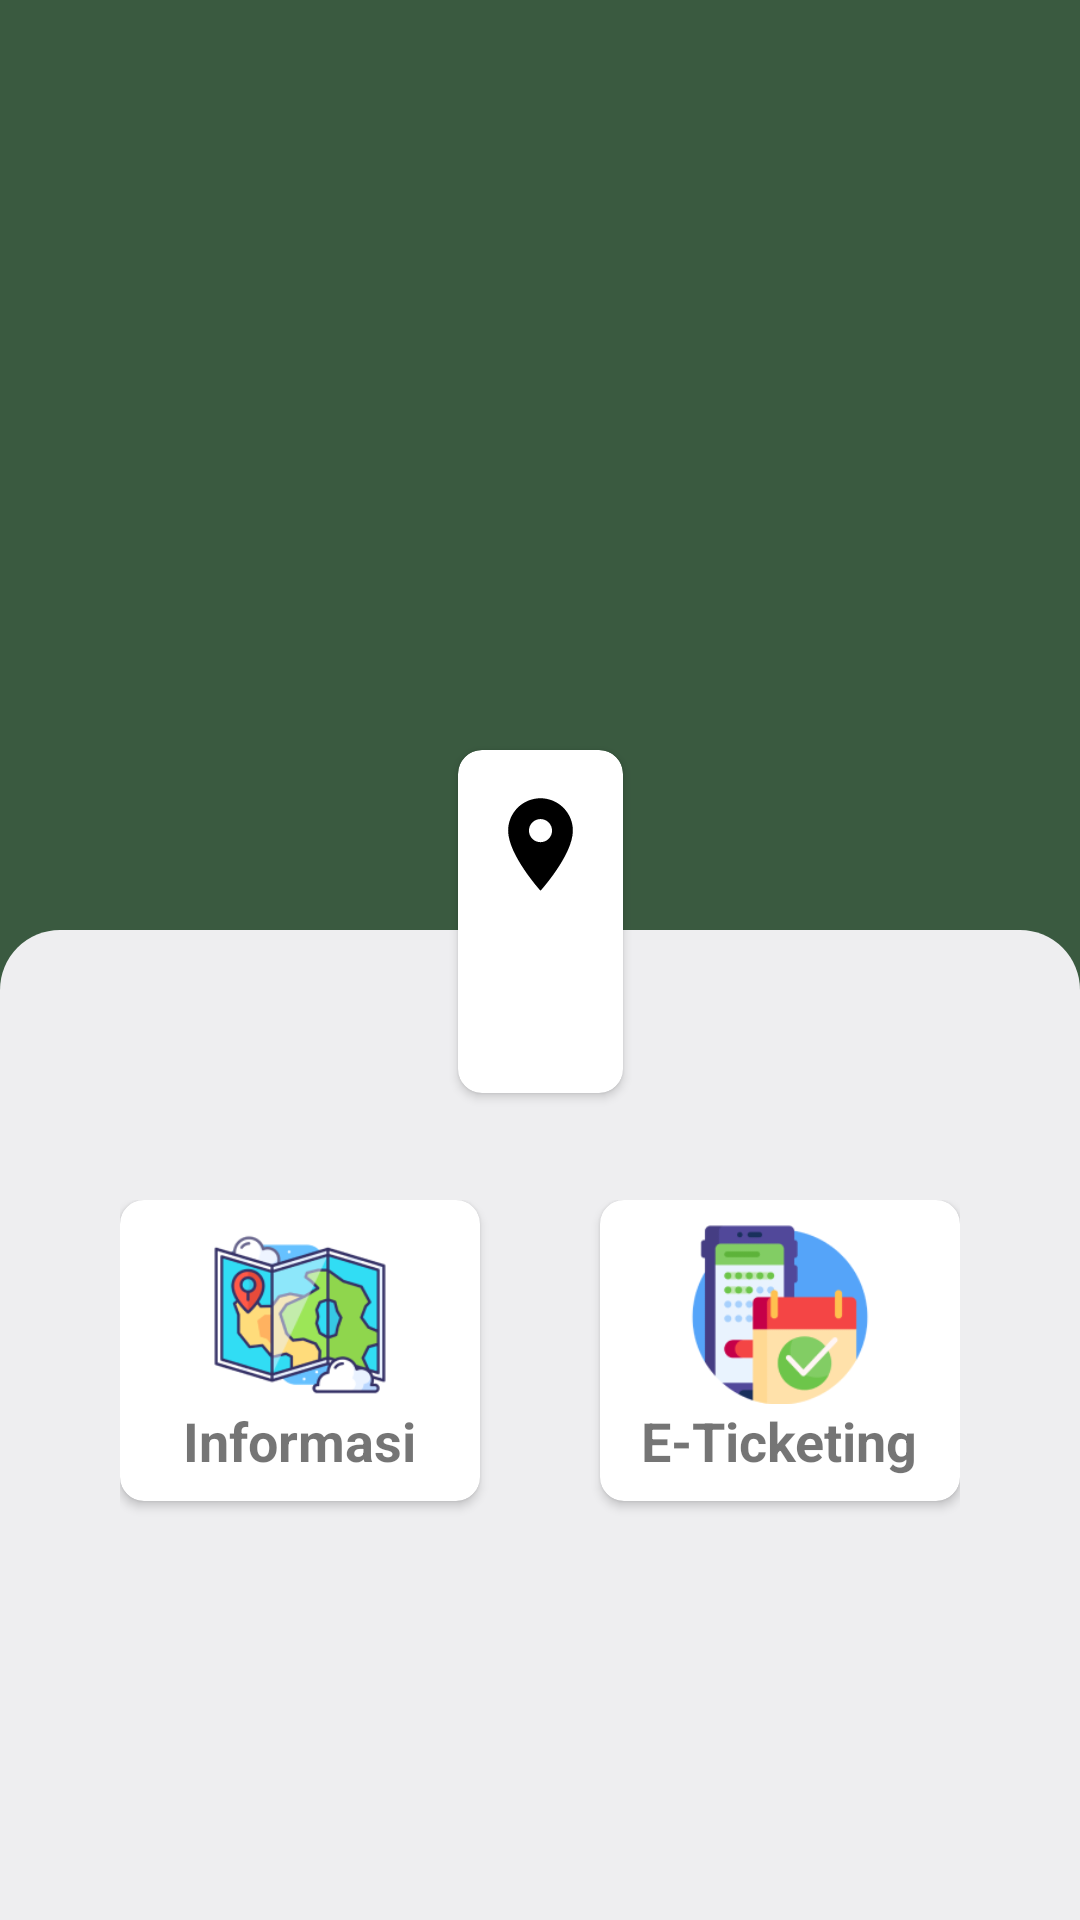

Point at icon controls on the screen. Image size 1080px×1920px, points as (x=x, y=y).
location: (x=540, y=844)
